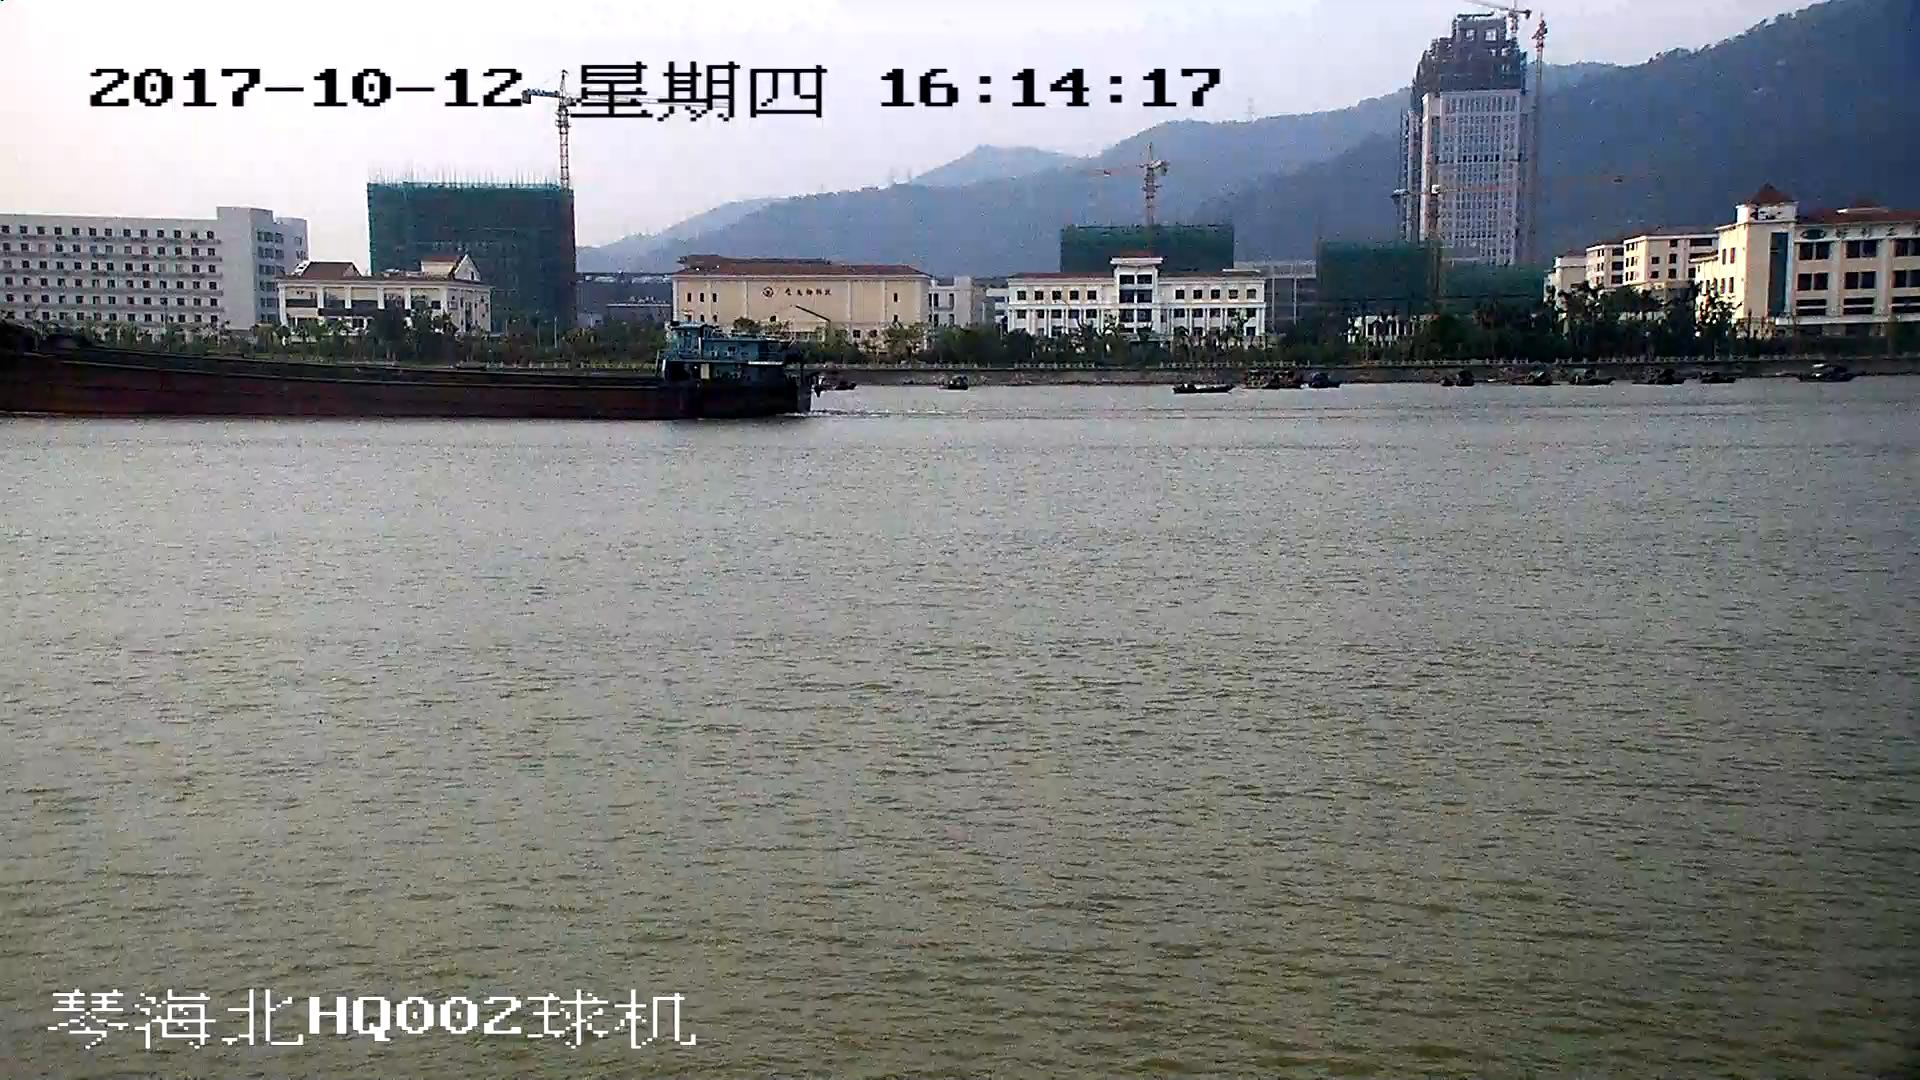bulk cargo carrier: (1, 315, 817, 420)
